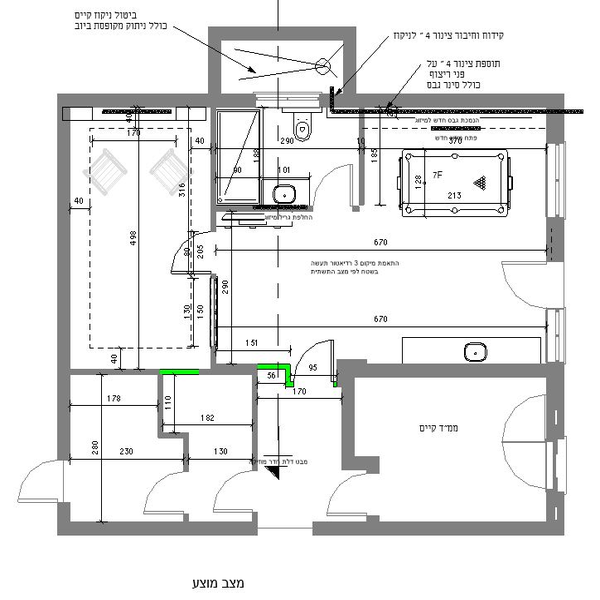door: (499, 255, 563, 312), (492, 438, 550, 491), (14, 458, 67, 509), (307, 163, 357, 212), (209, 467, 257, 517), (325, 472, 377, 517), (165, 235, 217, 277), (142, 470, 189, 516)
room: (54, 90, 225, 378), (323, 365, 566, 537), (352, 92, 573, 262), (51, 364, 259, 534), (203, 91, 366, 215)
wall: (312, 519, 571, 541), (57, 88, 259, 110), (57, 95, 69, 461), (335, 362, 562, 380), (362, 95, 566, 112), (57, 520, 260, 534), (210, 24, 357, 42), (335, 374, 362, 471), (247, 374, 268, 470), (203, 103, 215, 232), (339, 24, 356, 114), (544, 380, 567, 436), (543, 217, 567, 263), (73, 367, 166, 378), (206, 37, 223, 97), (357, 114, 367, 209), (157, 371, 169, 441), (176, 429, 192, 471), (207, 365, 254, 379), (546, 110, 562, 144)
window: (541, 436, 577, 496), (546, 144, 572, 218), (256, 88, 324, 115), (545, 308, 567, 359)
